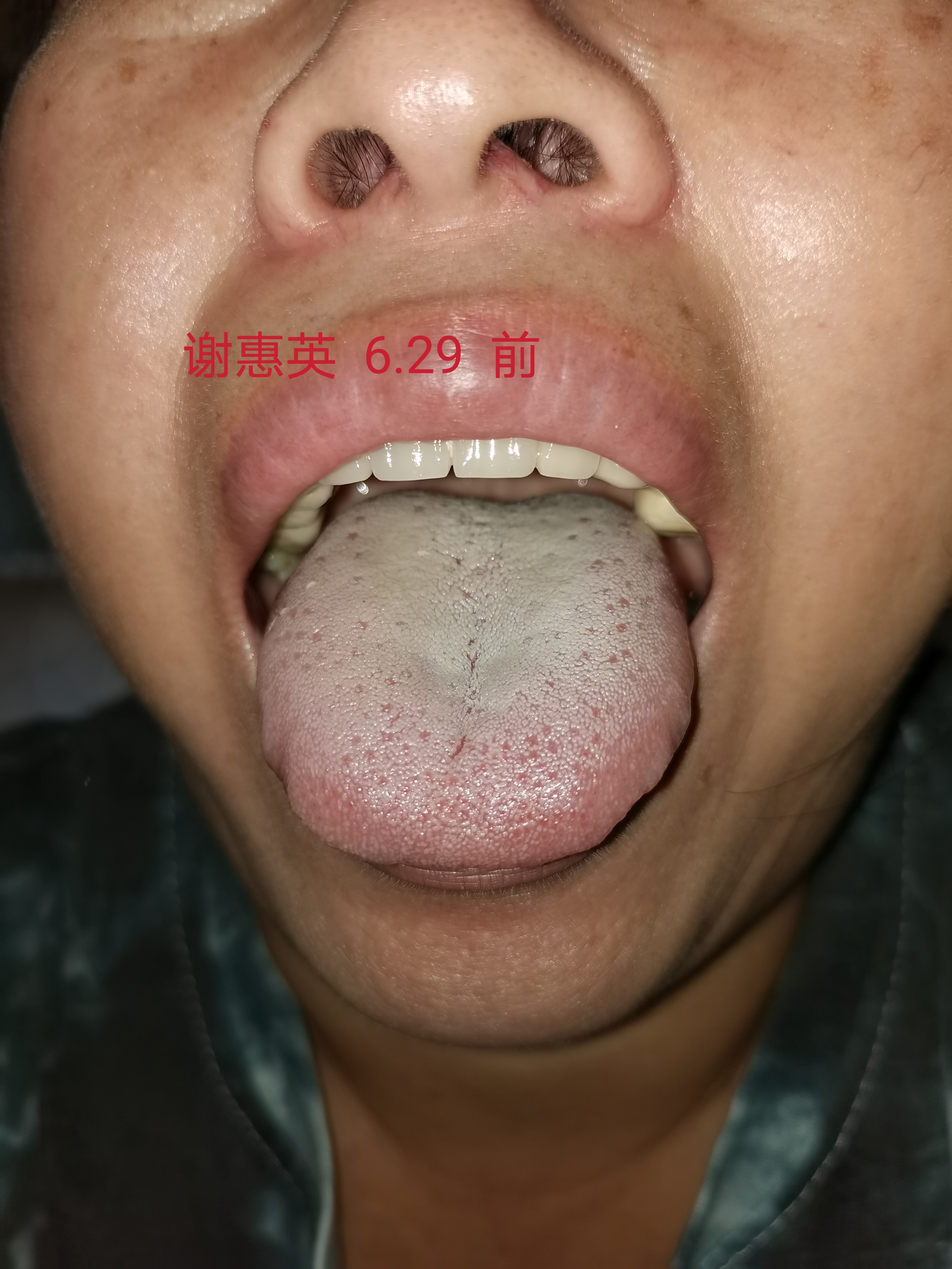baitaishe: (257, 489, 693, 869)
